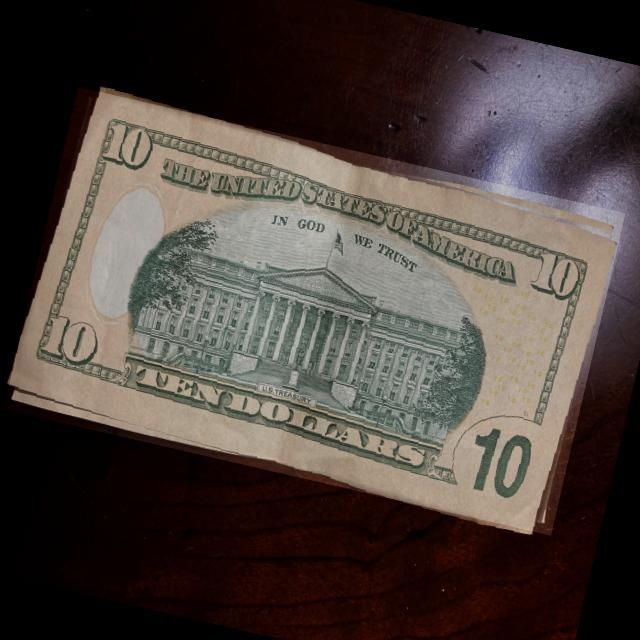ten: (3, 87, 625, 536)
